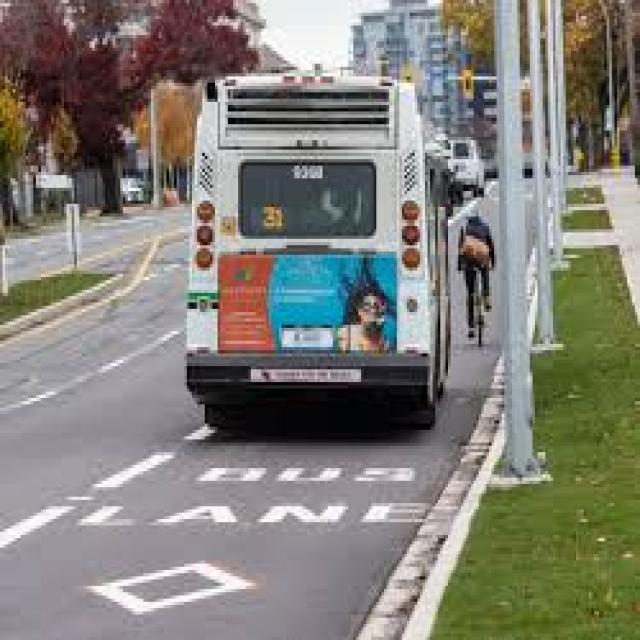Romb: (84, 559, 257, 616)
